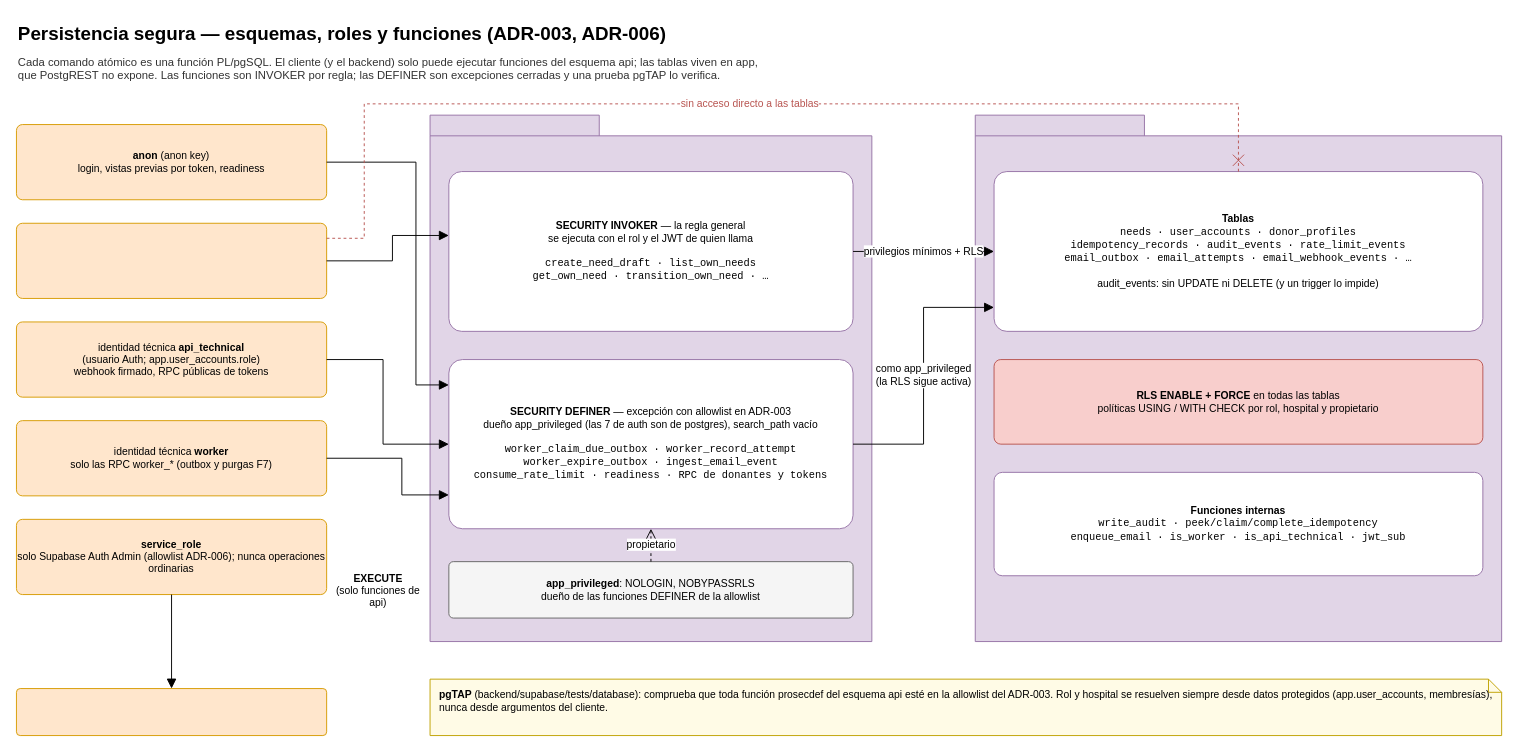
Image size: 1528x752. Some labels were removed from this diagram. Here are the shapes that lost their labels. From the top down, the box of each, then its label:
(16, 222, 327, 298): authenticated (JWT del usuario) donante · admin_hospitalario · superadmin
(429, 114, 872, 642): «schema» api — único esquema expuesto por PostgREST
(974, 114, 1502, 642): «schema» app — NO expuesto (no está en [api] schemas)
(16, 688, 327, 736): Supabase Auth Admin API (fuera del SQL)
